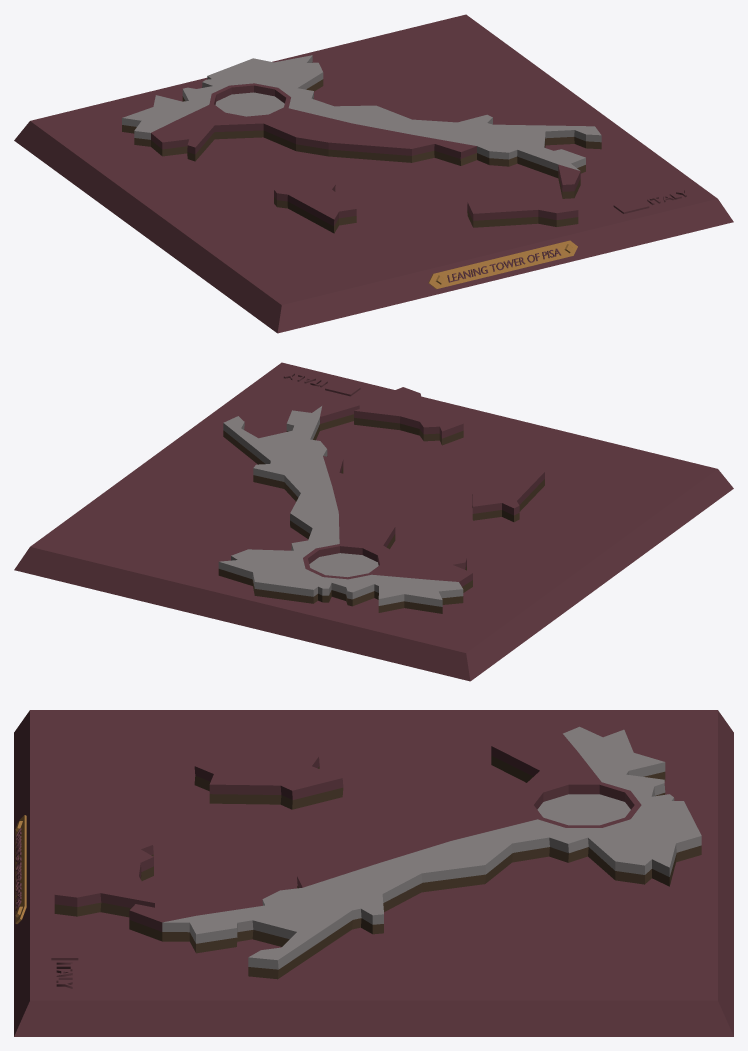
File: SM_Island_TowerOfPisa_Landmark.fbx
3 views of the same model, one above another, from view 1: azimuth 30°, elevation 25°; view 2: azimuth 150°, elevation 25°; view 3: azimuth 270°, elevation 25° (orthographic). The views are drawn at different scales.
Visible parts, largest first — view 1: Island_TowerOfPisa_Landmark; view 2: Island_TowerOfPisa_Landmark; view 3: Island_TowerOfPisa_Landmark.
Boxes of the visible parts, x1,y1,x2,y2 form: Island_TowerOfPisa_Landmark: (14,14,733,333); Island_TowerOfPisa_Landmark: (14,362,733,681); Island_TowerOfPisa_Landmark: (14,710,733,1036).
Bounding box in the file's own units: 68.5 × 5.09 × 68.5.
